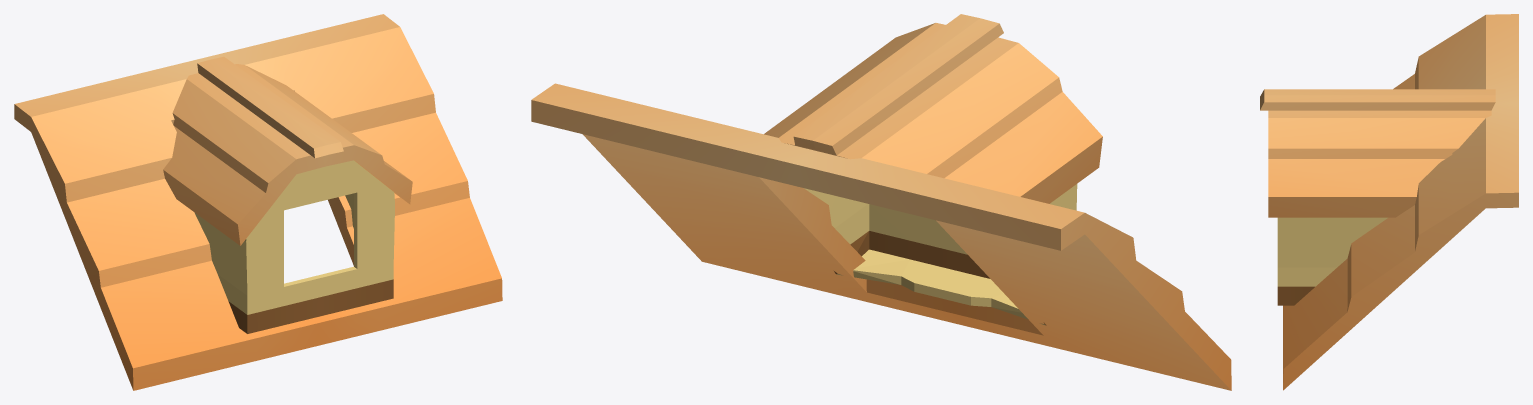
The model's file is Roof_Dormer_01.fbx.
3 views of the same model, side by side, from view 1: azimuth 30°, elevation 25°; view 2: azimuth 150°, elevation 25°; view 3: azimuth 270°, elevation 25° (orthographic). The views are drawn at different scales.
Parts seen in each view (by area): view 1: Roof_Straight_01, Roof_Straight_01.001, Roof_Dormer_01; view 2: Roof_Straight_01, Roof_Straight_01.001, Roof_Dormer_01; view 3: Roof_Straight_01, Roof_Straight_01.001, Roof_Dormer_01.
Part boxes in pixels (<box>): Roof_Straight_01: <box>14,14,502,390</box>; Roof_Straight_01.001: <box>163,56,412,245</box>; Roof_Dormer_01: <box>194,160,394,333</box>; Roof_Straight_01: <box>531,83,1231,390</box>; Roof_Straight_01.001: <box>764,14,1102,203</box>; Roof_Dormer_01: <box>804,184,1077,325</box>; Roof_Straight_01: <box>1283,14,1518,390</box>; Roof_Straight_01.001: <box>1260,89,1495,217</box>; Roof_Dormer_01: <box>1277,217,1387,305</box>.
Bounding box in the file's own units: 5.04 × 2.71 × 3.09.
